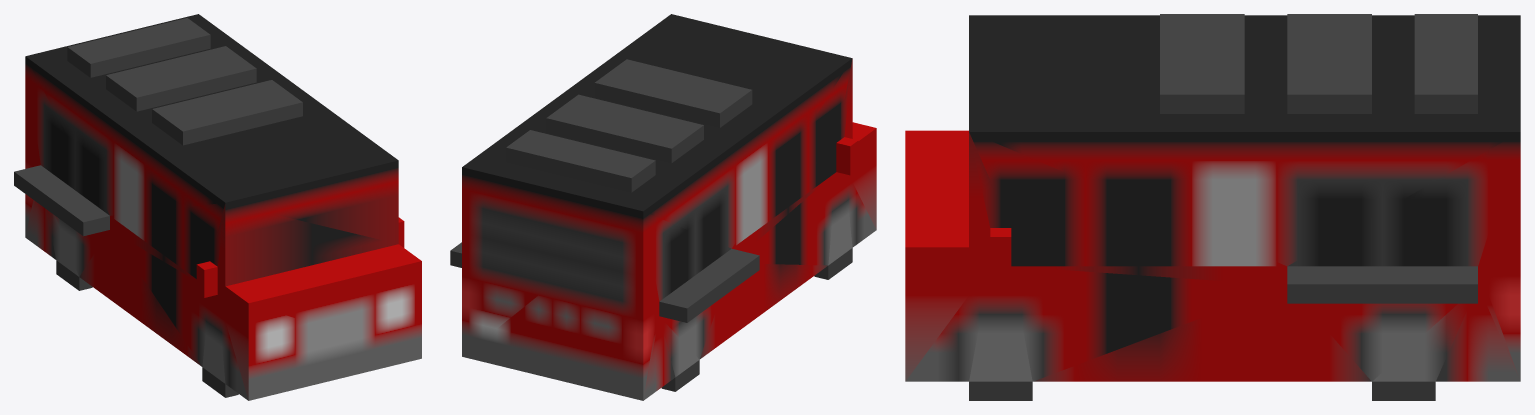
The model's file is veh_lunch1.dae.
3 renders of one model, left to right at view 1: azimuth 30°, elevation 25°; view 2: azimuth 150°, elevation 25°; view 3: azimuth 270°, elevation 25°, orthographic. The views are drawn at different scales.
Visible parts, largest first — view 1: veh_lunch1; view 2: veh_lunch1; view 3: veh_lunch1.
Part boxes in pixels (x1,y1,x2,y2): veh_lunch1: (14,14,421,400); veh_lunch1: (450,14,876,400); veh_lunch1: (905,14,1520,400).
Size of the model in its own units: 1.7 by 2.9 by 1.5.
1 material, 1 textured.
